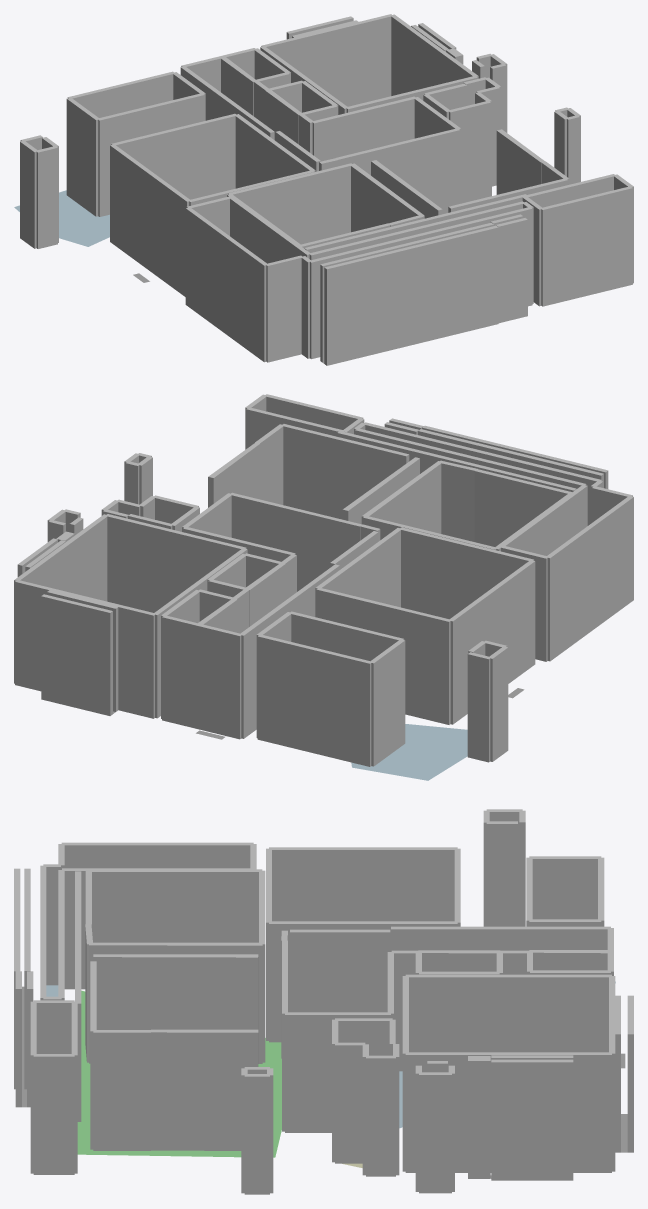
Rendered from Capture d’écran 2025-06-05 224143.obj.
3 renders of one model, top to bottom at view 1: azimuth 30°, elevation 25°; view 2: azimuth 150°, elevation 25°; view 3: azimuth 270°, elevation 25°, orthographic. The views are drawn at different scales.
Size of the model in its own units: 12.12 by 2.5 by 11.88.
